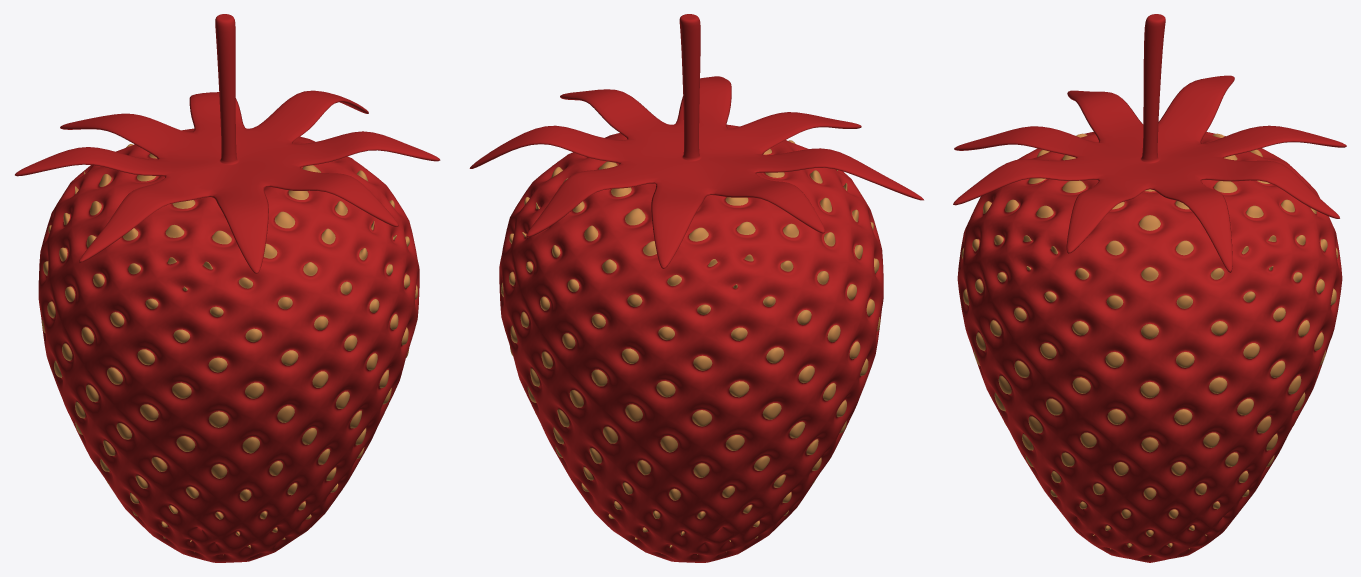
The model's file is strawberry_stock.fbx.
The picture shows the model from 3 angles, left to right: view 1: azimuth 30°, elevation 25°; view 2: azimuth 150°, elevation 25°; view 3: azimuth 270°, elevation 25°; orthographic projection.
Parts seen in each view (by area): view 1: strawberry; view 2: strawberry; view 3: strawberry.
Part boxes in pixels (x1,y1,x2,y2): strawberry: (15, 14, 440, 562); strawberry: (469, 14, 923, 562); strawberry: (953, 14, 1346, 562).
Size of the model in its own units: 188 by 260 by 173.
